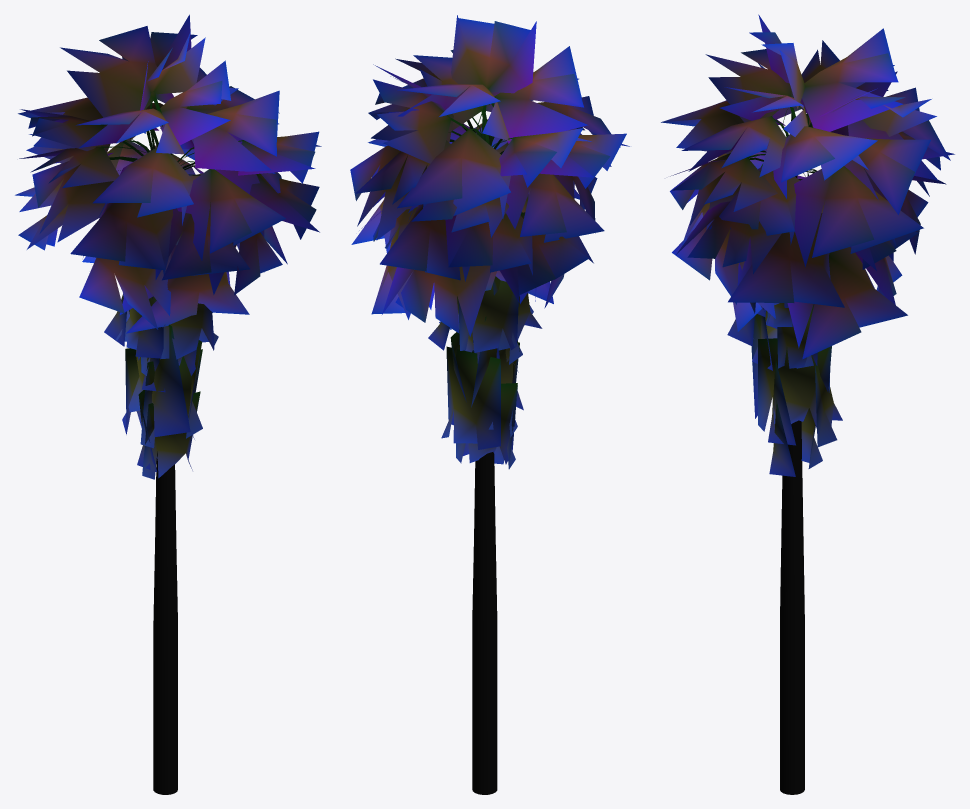
Rendered from italy_palm_1_test2.dae.
The picture shows the model from 3 angles, left to right: view 1: azimuth 30°, elevation 25°; view 2: azimuth 150°, elevation 25°; view 3: azimuth 270°, elevation 25°; orthographic projection.
Parts seen in each view (by area): view 1: italy_palm_1_003; view 2: italy_palm_1_003; view 3: italy_palm_1_003.
Boxes of the visible parts, x1,y1,x2,y2 form: italy_palm_1_003: (15, 14, 321, 794); italy_palm_1_003: (350, 15, 629, 794); italy_palm_1_003: (661, 14, 954, 794).
Size of the model in its own units: 4.81 by 4.7 by 13.31.
